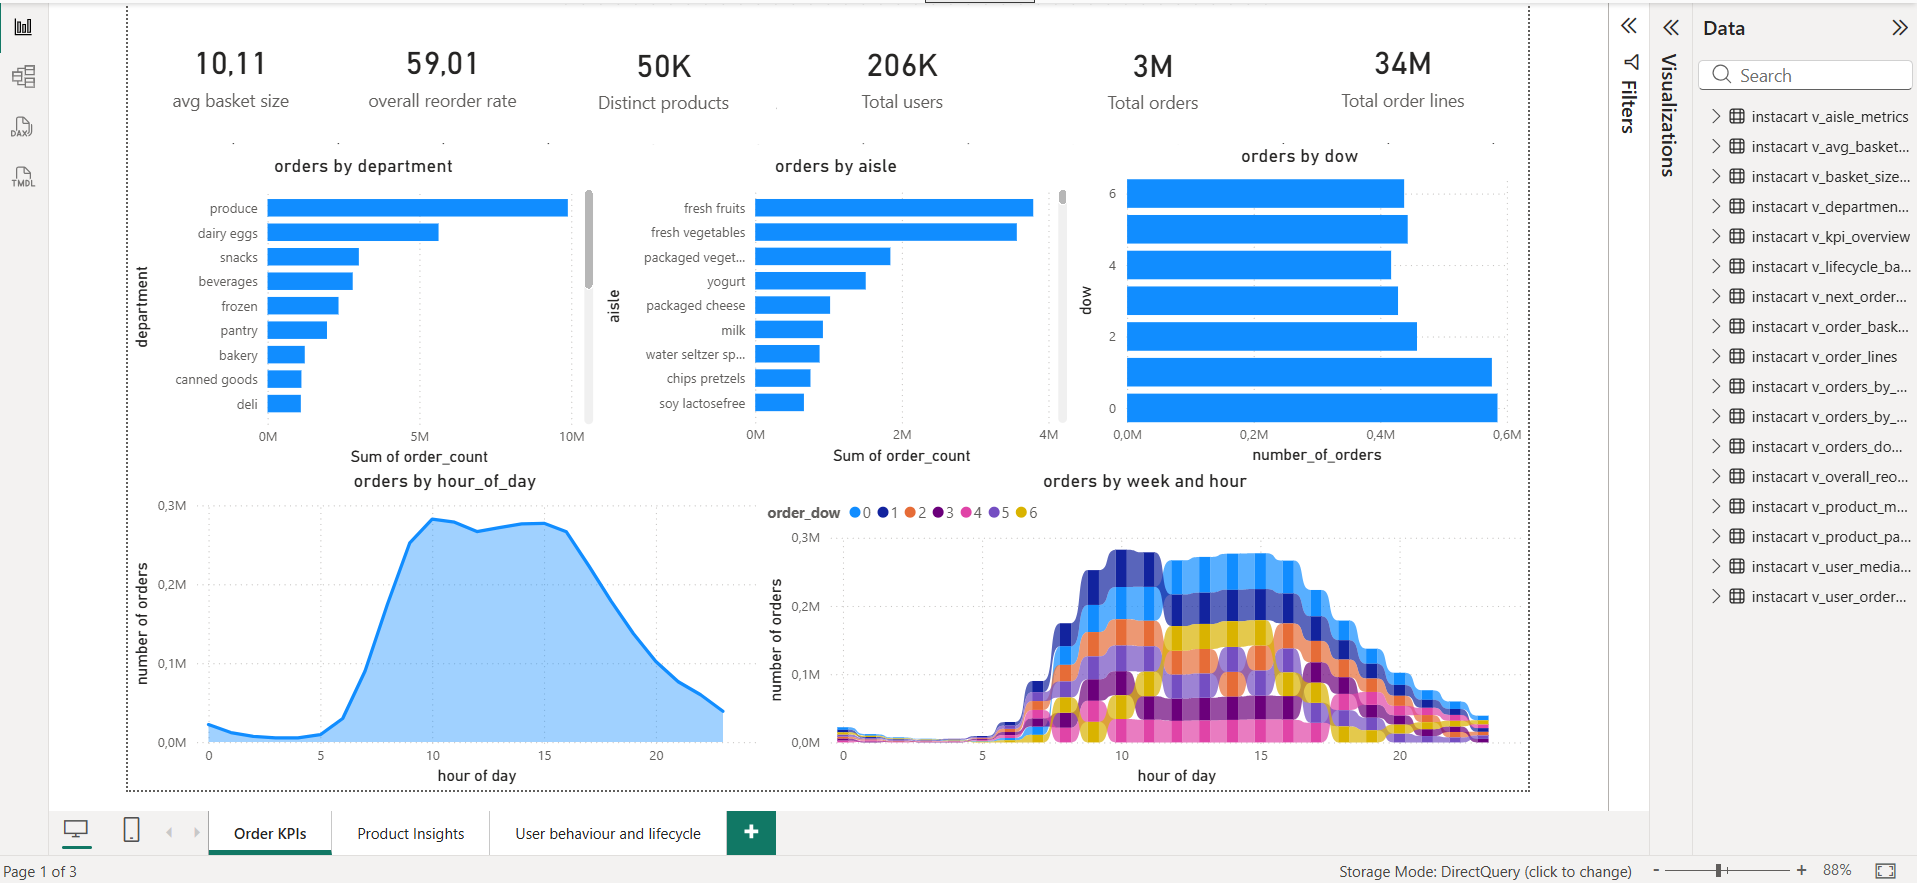

What the dashboard file says about the page in this screenshot:
{"tool":"powerbi","page":{"name":"Order KPIs","canvas":[1280,720],"ordinal":0},"visuals":[{"type":"card","fields":{"Values":["Sum(instacart v_kpi_overview.avg_basket_size)"]},"box":[0,0,188.3,128.4],"z":0},{"type":"card","fields":{"Values":["Sum(instacart v_kpi_overview.distinct_products)"]},"box":[386.4,3.7,206.7,126],"z":1000},{"type":"card","fields":{"Values":["Sum(instacart v_kpi_overview.overall_reorder_rate_pct)"]},"box":[188.3,0,198.1,128.4],"z":2000},{"type":"card","fields":{"Values":["Sum(instacart v_kpi_overview.total_order_lines)"]},"box":[1051.6,0,228.7,128.4],"z":3000},{"type":"card","fields":{"Values":["Sum(instacart v_kpi_overview.total_orders)"]},"box":[823,3.7,228.7,126],"z":4000},{"type":"card","fields":{"Values":["Sum(instacart v_kpi_overview.total_users)"]},"box":[593.1,3.7,229.9,124.7],"z":5000},{"type":"clusteredBarChart","title":"orders by dow","fields":{"Category":["instacart v_orders_by_dow.day_of_week"],"Y":["Sum(instacart v_orders_by_dow.number_of_orders)"]},"box":[863.3,129.6,417,297.1],"z":6000},{"type":"areaChart","title":"orders by hour_of_day","fields":{"Y":["Sum(instacart v_orders_by_hour.number_of_orders)"],"Category":["instacart v_orders_by_hour.hour_of_day"]},"box":[0,426.8,579.6,293.5],"z":7000},{"type":"clusteredBarChart","title":"orders by department","fields":{"Category":["instacart v_department_metrics.department"],"Y":["Sum(instacart v_department_metrics.order_count)"]},"box":[0,138.2,430.4,289.8],"z":8000},{"type":"clusteredBarChart","title":"orders by aisle","fields":{"Y":["Sum(instacart v_aisle_metrics.order_count)"],"Category":["instacart v_aisle_metrics.aisle"]},"box":[430.4,138.2,432.9,288.6],"z":9000},{"type":"ribbonChart","title":"orders by week and hour","fields":{"Category":["instacart v_orders_dow_hour.hour_of_day"],"Y":["Sum(instacart v_orders_dow_hour.number_of_orders)"],"Series":["instacart v_orders_dow_hour.order_dow"]},"box":[579.6,426.8,700.7,293.5],"z":10000}]}

Visuals, with their boxes on the page's 1280x720 design canvas (x1, y1, x2, y2). These are canvas units, not pixel positions in the 1917x883 screenshot, which may show the page scaled, cropped or inside an application window:
card - Sum(instacart v_kpi_overview.avg_basket_size): left=0, top=0, right=188, bottom=128
card - Sum(instacart v_kpi_overview.distinct_products): left=386, top=4, right=593, bottom=130
card - Sum(instacart v_kpi_overview.overall_reorder_rate_pct): left=188, top=0, right=386, bottom=128
card - Sum(instacart v_kpi_overview.total_order_lines): left=1052, top=0, right=1280, bottom=128
card - Sum(instacart v_kpi_overview.total_orders): left=823, top=4, right=1052, bottom=130
card - Sum(instacart v_kpi_overview.total_users): left=593, top=4, right=823, bottom=128
"orders by dow" clusteredBarChart: left=863, top=130, right=1280, bottom=427
"orders by hour_of_day" areaChart: left=0, top=427, right=580, bottom=720
"orders by department" clusteredBarChart: left=0, top=138, right=430, bottom=428
"orders by aisle" clusteredBarChart: left=430, top=138, right=863, bottom=427
"orders by week and hour" ribbonChart: left=580, top=427, right=1280, bottom=720
